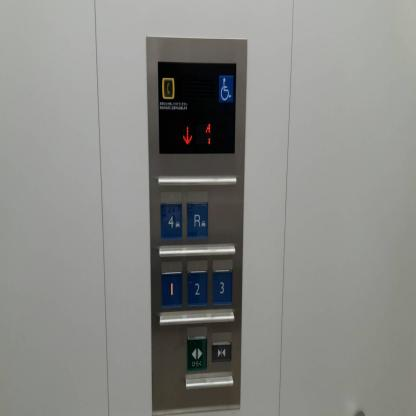1: (159, 269, 184, 309)
2: (186, 269, 207, 308)
3: (210, 269, 232, 308)
4: (158, 200, 182, 241)
CH: (218, 74, 234, 106)
R: (185, 200, 209, 242)
call: (162, 75, 176, 100)
close: (210, 340, 233, 363)
led: (176, 117, 216, 151)
open: (184, 336, 208, 372)
